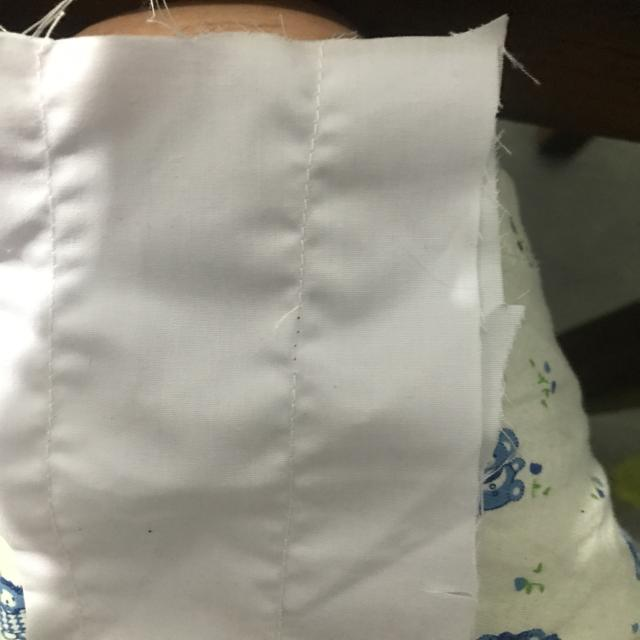broken: (245, 294, 342, 388)
good: (291, 186, 328, 266)
